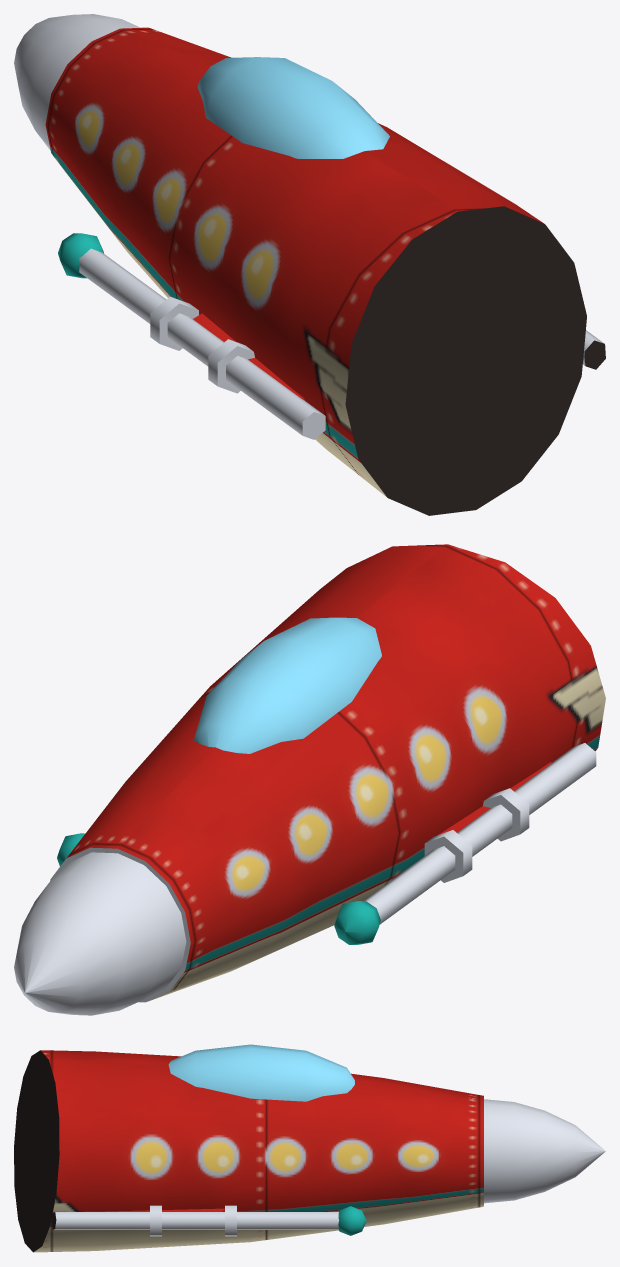
File: comet_debris1.obj
3 renders of one model, top to bottom at view 1: azimuth 30°, elevation 25°; view 2: azimuth 150°, elevation 25°; view 3: azimuth 270°, elevation 25°, orthographic. The views are drawn at different scales.
Visible parts, largest first — view 1: hull, canopy, gun, gun_ring, gun_tip, stub; view 2: hull, canopy, gun, gun_ring, gun_tip; view 3: hull, canopy, gun, gun_ring, gun_tip.
Part boxes in pixels (bbox=[...]): hull: bbox=[14, 14, 586, 515]; canopy: bbox=[197, 57, 389, 158]; gun: bbox=[79, 248, 605, 439]; gun_ring: bbox=[150, 296, 254, 393]; gun_tip: bbox=[58, 233, 103, 278]; stub: bbox=[193, 313, 305, 400]; hull: bbox=[14, 544, 605, 1015]; canopy: bbox=[194, 617, 381, 753]; gun: bbox=[363, 743, 596, 924]; gun_ring: bbox=[424, 788, 529, 882]; gun_tip: bbox=[57, 833, 380, 944]; hull: bbox=[14, 1050, 605, 1252]; canopy: bbox=[168, 1044, 354, 1101]; gun: bbox=[51, 1212, 338, 1229]; gun_ring: bbox=[150, 1205, 236, 1236]; gun_tip: bbox=[338, 1206, 366, 1235].
Size of the model in its own units: 2.19 by 1.94 by 5.33.
Materials: 6 (1 with a texture image).
